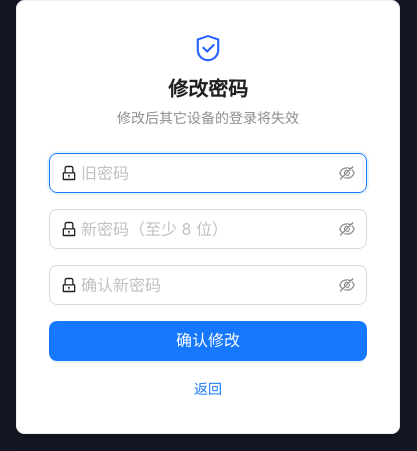
Test: ChangePassword 页 › 两次新密码不一致：前端拦截
The image size is (417, 451).
Check: the button with test id "change-pwd-submit" is shown, box [49,321,367,361]
Step 1. Type "old-password" into the password field with test id "change-pwd-old" → (208, 173), box [81,161,335,185]
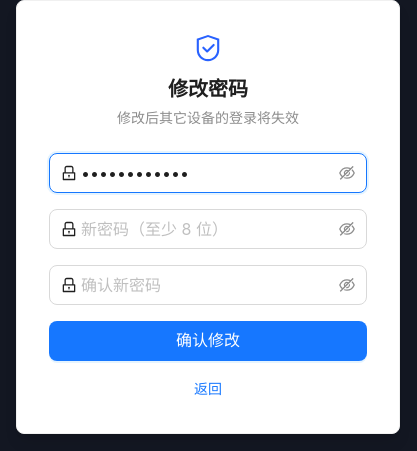
Step 2. Type "new-password1" into the password field with test id "change-pwd-new" → (208, 229), box [81,217,335,241]
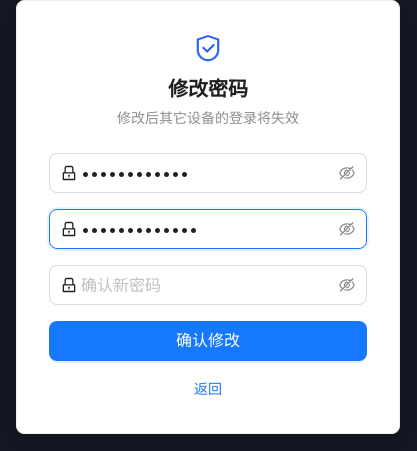
Step 3. Type "new-password2" into the password field with test id "change-pwd-confirm" → (208, 285), box [81,273,335,297]
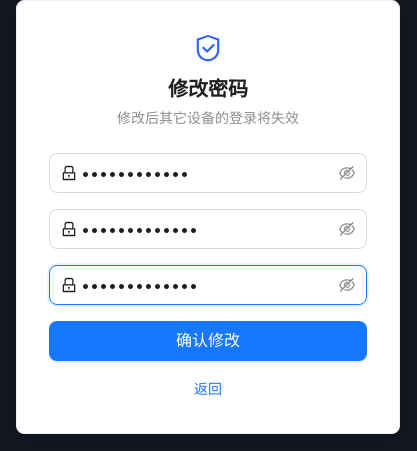
Step 4. Click the button with test id "change-pwd-submit" → (208, 341), box [49,321,367,361]
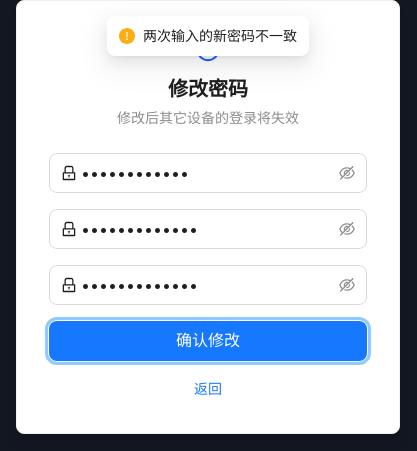
Check: the text "两次输入的新密码不一致" is shown, box [143,25,297,47]
